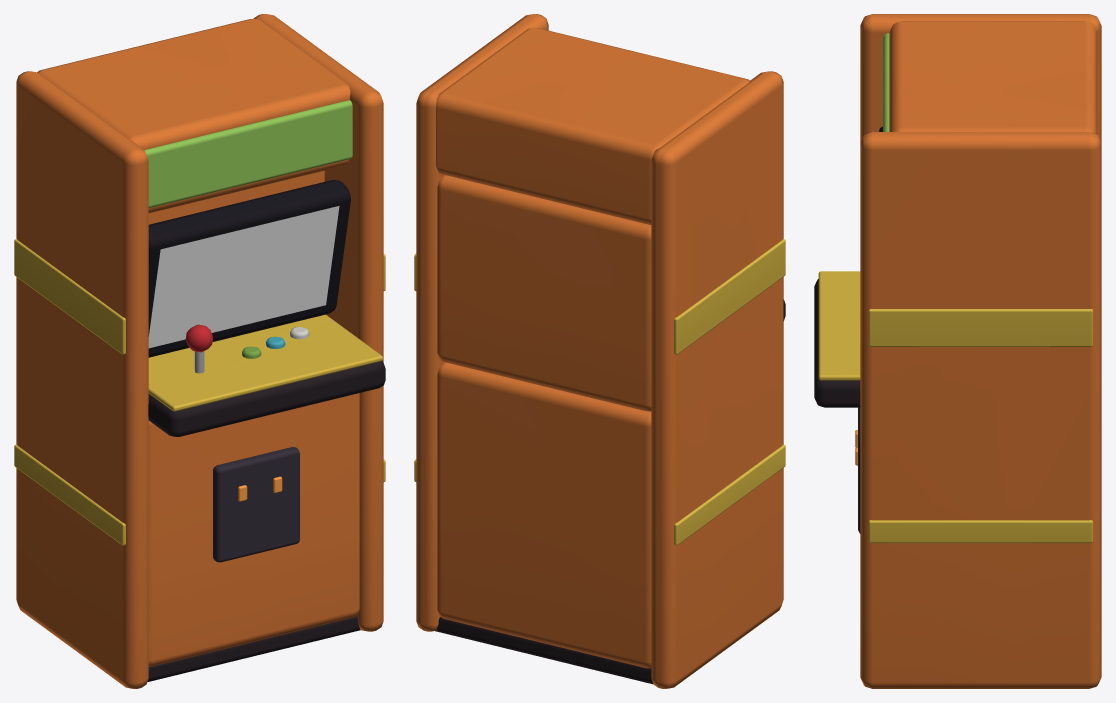
The model's file is furn_cab_fruit.glb.
3 views of the same model, side by side, from view 1: azimuth 30°, elevation 25°; view 2: azimuth 150°, elevation 25°; view 3: azimuth 270°, elevation 25° (orthographic). The views are drawn at different scales.
Visible parts, largest first — view 1: furn_cab_fruit_main, furn_cab_fruit_screen, furn_cab_fruit_glow; view 2: furn_cab_fruit_main; view 3: furn_cab_fruit_main, furn_cab_fruit_glow.
Part boxes in pixels (x1=…): furn_cab_fruit_main: x1=14, y1=14, x2=385, y2=688; furn_cab_fruit_screen: x1=148, y1=206, x2=339, y2=348; furn_cab_fruit_glow: x1=144, y1=100, x2=352, y2=501; furn_cab_fruit_main: x1=414, y1=14, x2=785, y2=688; furn_cab_fruit_main: x1=814, y1=14, x2=1101, y2=688; furn_cab_fruit_glow: x1=855, y1=33, x2=889, y2=465.
Size of the model in its own units: 0.752 by 1.47 by 0.69.
